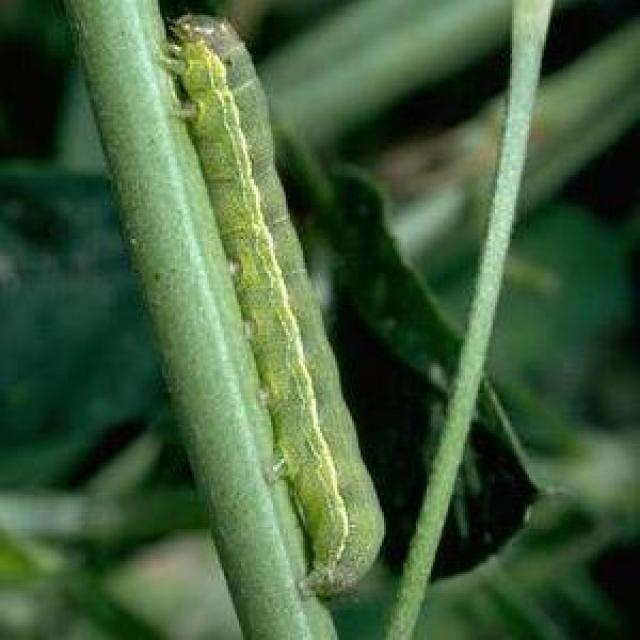BeetArmyWorm-Larva-: (153, 5, 405, 597)
